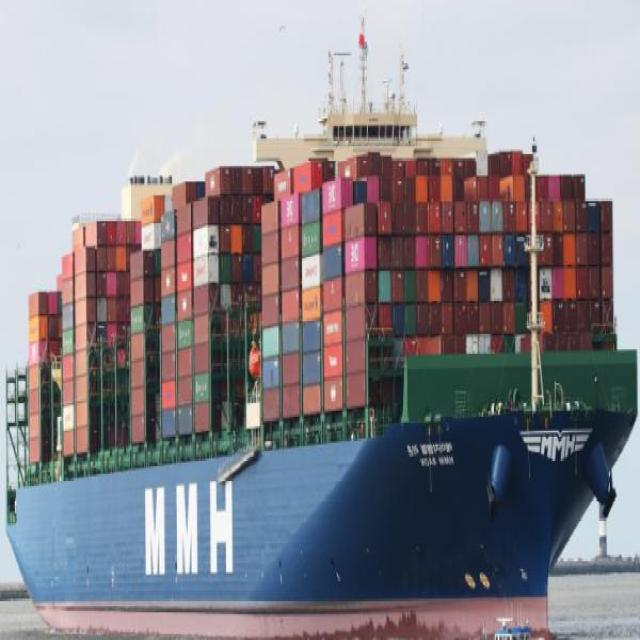Container Ship: (6, 19, 638, 638)
